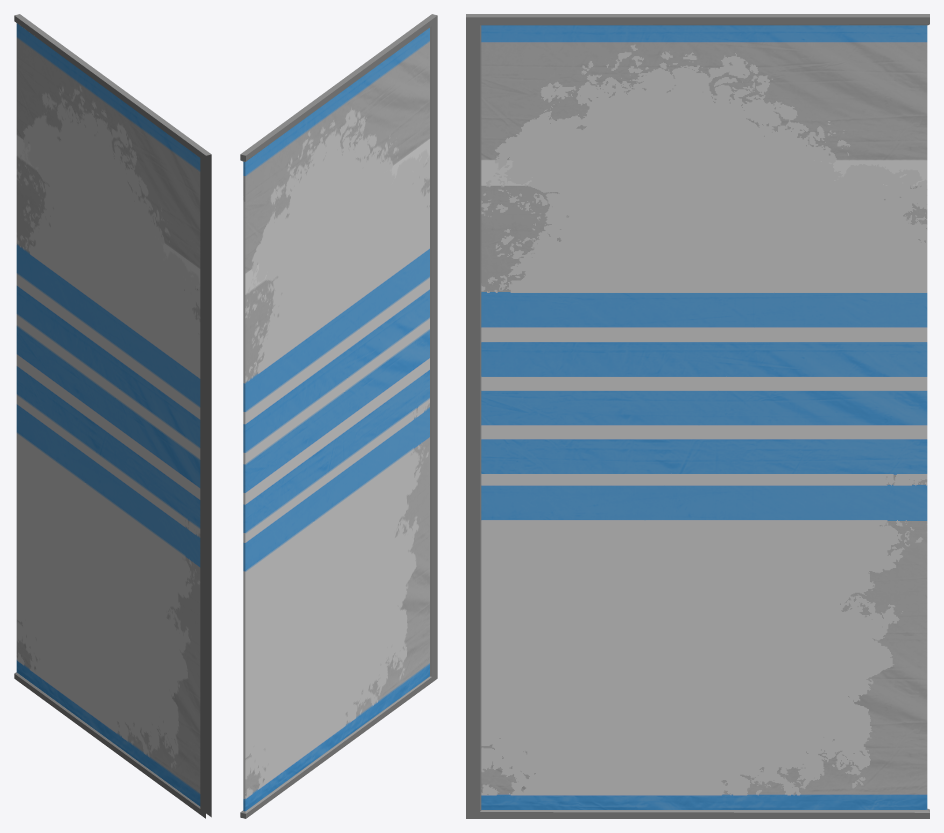
File: BATHROOM_showerWall_01.FBX
3 renders of one model, left to right at view 1: azimuth 30°, elevation 25°; view 2: azimuth 150°, elevation 25°; view 3: azimuth 270°, elevation 25°, orthographic. The views are drawn at different scales.
Parts seen in each view (by area): view 1: BATHROOM_showerWall_01_glass, BATHROOM_showerWall_01_base; view 2: BATHROOM_showerWall_01_glass, BATHROOM_showerWall_01_base; view 3: BATHROOM_showerWall_01_glass, BATHROOM_showerWall_01_base.
Part boxes in pixels (x1=…): BATHROOM_showerWall_01_glass: x1=16, y1=23, x2=200, y2=806; BATHROOM_showerWall_01_base: x1=14, y1=14, x2=211, y2=818; BATHROOM_showerWall_01_glass: x1=243, y1=28, x2=429, y2=811; BATHROOM_showerWall_01_base: x1=240, y1=14, x2=437, y2=818; BATHROOM_showerWall_01_glass: x1=481, y1=25, x2=927, y2=809; BATHROOM_showerWall_01_base: x1=466, y1=14, x2=929, y2=818.
Bounding box in the file's own units: 2.11 × 236 × 124.
2 materials, 1 textured.
